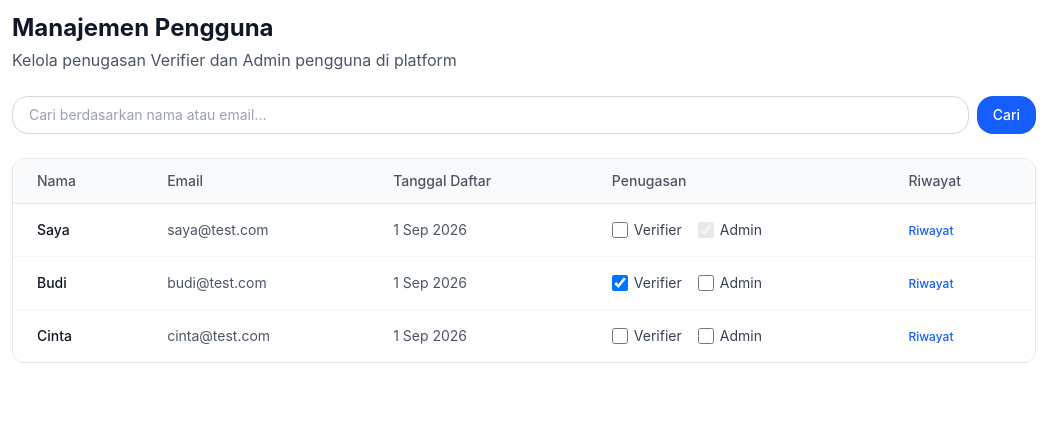
AdminUsersPage › shows "Pengguna tidak dikenal" when the actor has no name
The width and height of the screenshot is (1048, 421).
Click the button "Riwayat" in the row of "budi@test.com" at (931, 284), box [908,276,954,292]
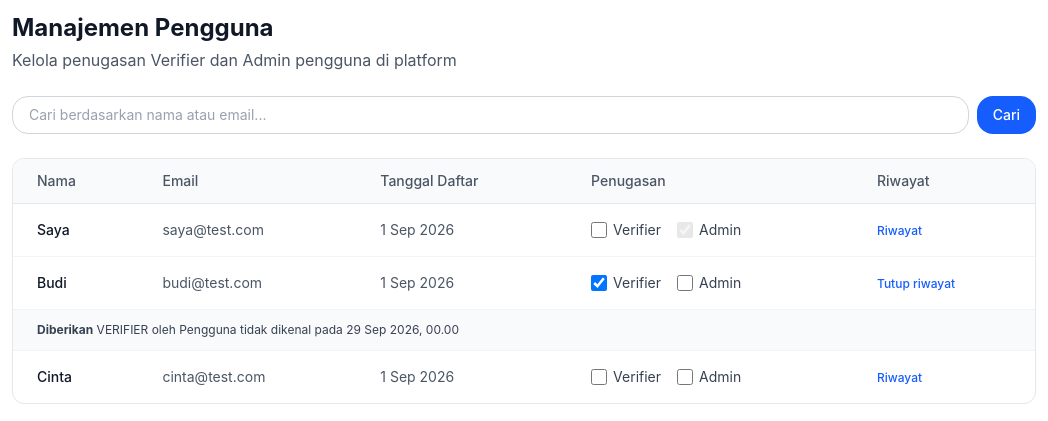
Expected: the list named "riwayat penugasan budi" shows "Pengguna tidak dikenal", [179,322,311,337]
